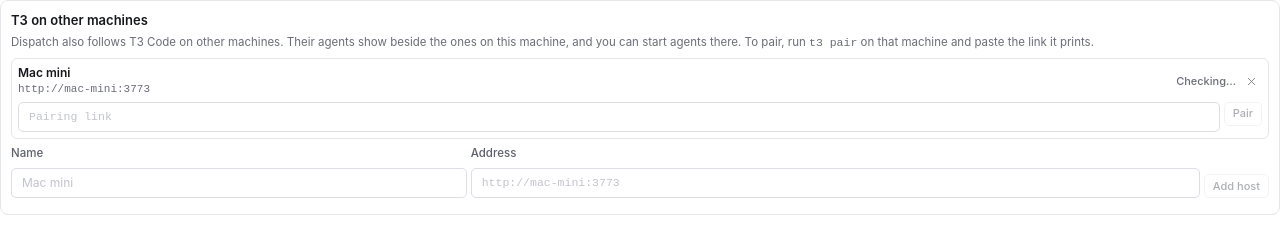
Test: T3HostsCard › shows why pairing failed
Type "stale" into the password field named "Pairing link for Mac mini".
click(619, 117); type("stale")  # box x1=29 y1=109 x2=1209 y2=124
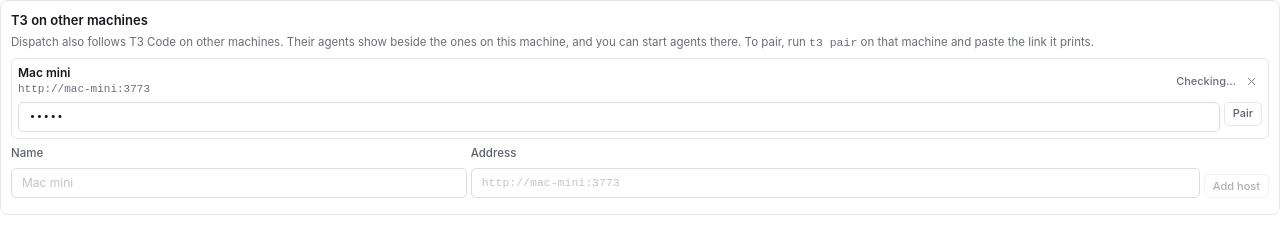
Click the button "Pair".
click(1243, 114)  # box x1=1224 y1=102 x2=1262 y2=126
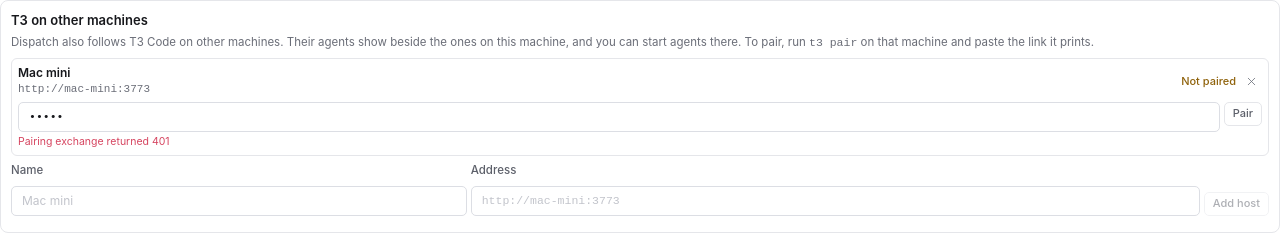
Now the text "Pairing exchange returned 401" is shown, box x1=18 y1=135 x2=170 y2=148
